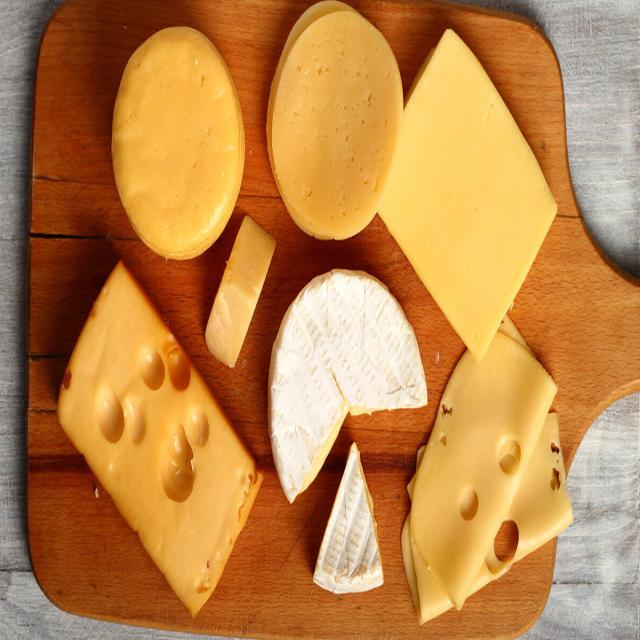Cheese: (50, 274, 255, 624), (378, 28, 568, 361), (401, 333, 581, 628), (261, 1, 407, 242), (273, 277, 429, 499), (107, 25, 240, 266), (307, 443, 391, 602), (207, 224, 280, 370)
